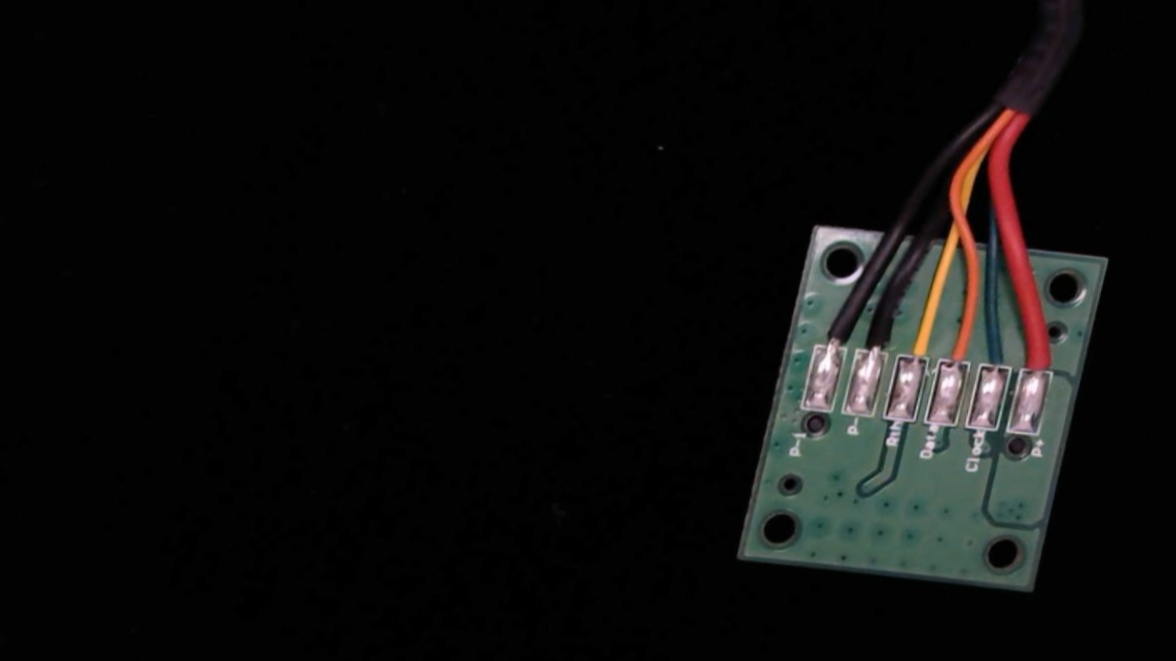Black: (852, 302, 901, 372)
Black1: (806, 295, 858, 366)
Green: (974, 324, 1023, 392)
Orange: (934, 319, 982, 385)
Red: (1013, 321, 1067, 396)
Yellow: (894, 306, 941, 378)
